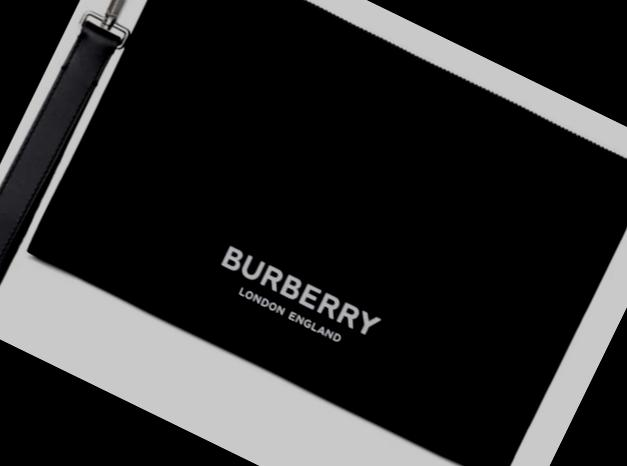BURBERRY: (219, 244, 381, 338)
